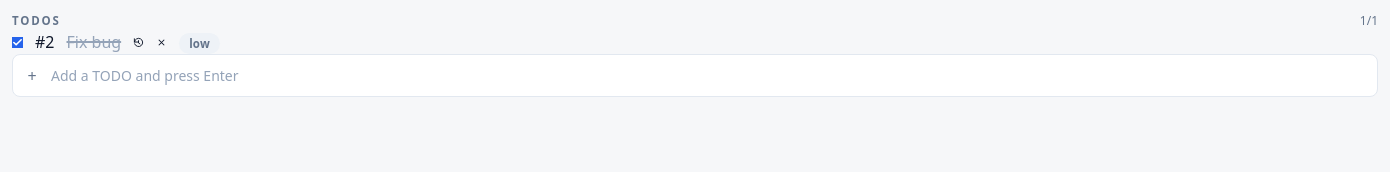
it: TodosSection › toggle rejected with TASK_REOPEN_PAST_DAY_NOT_ALLOWED shows the past-days message and task stays completed
This screenshot has width=1390, height=172.
Click the button named "mark not done". click: point(18, 42)
box: x1=12 y1=36 x2=23 y2=48
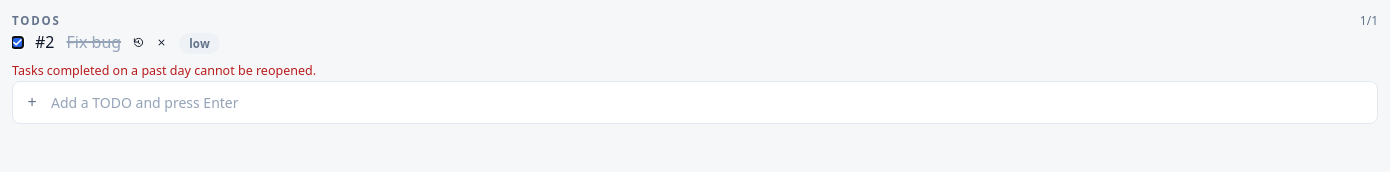
Expected: the text "Tasks completed on a past day cannot be reopened." is shown, x1=12 y1=62 x2=316 y2=79
